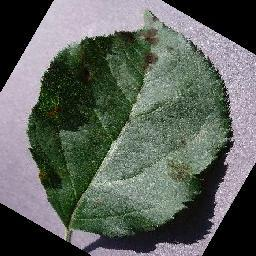apple healthy: (25, 9, 234, 241)
